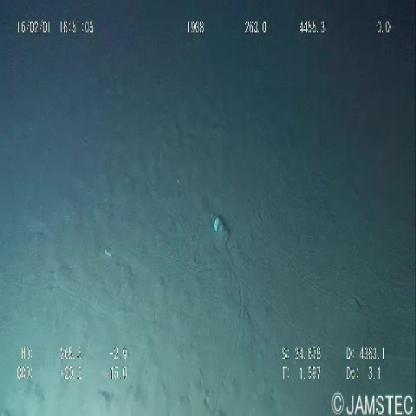Rác: (206, 207, 233, 248)
